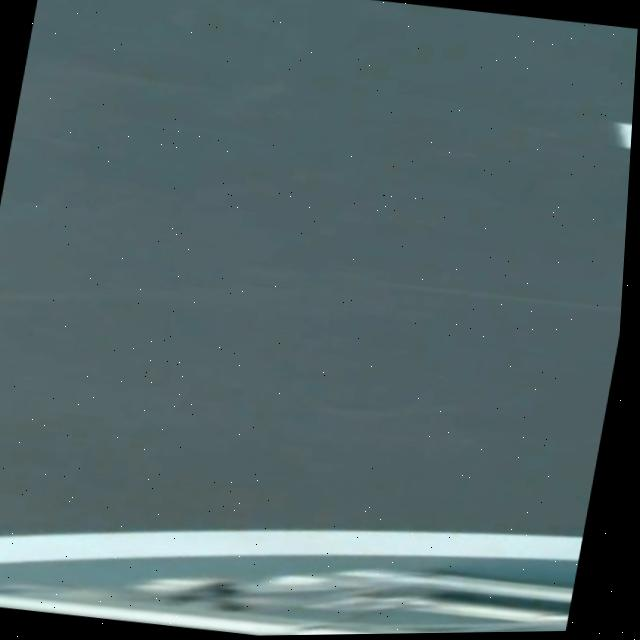center: (614, 121, 632, 148)
left: (0, 529, 582, 563)
